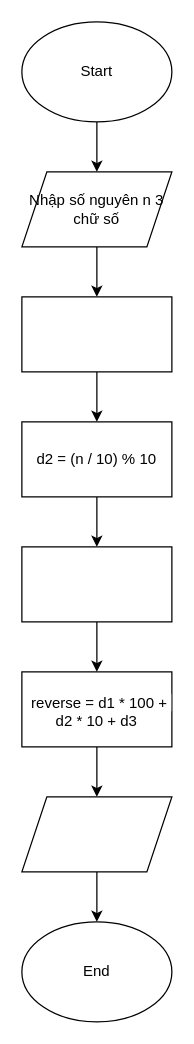
The diagram is 194 pixels wide and 1044 high, and some of its shapes have lost their labels. Here are the shapes that lost their labels. From the top down, the centre of each, then its label:
At (96,334): "d1 = n % 10".
At (96,584): "d3 = n / 100".
At (96,834): "reverse".
